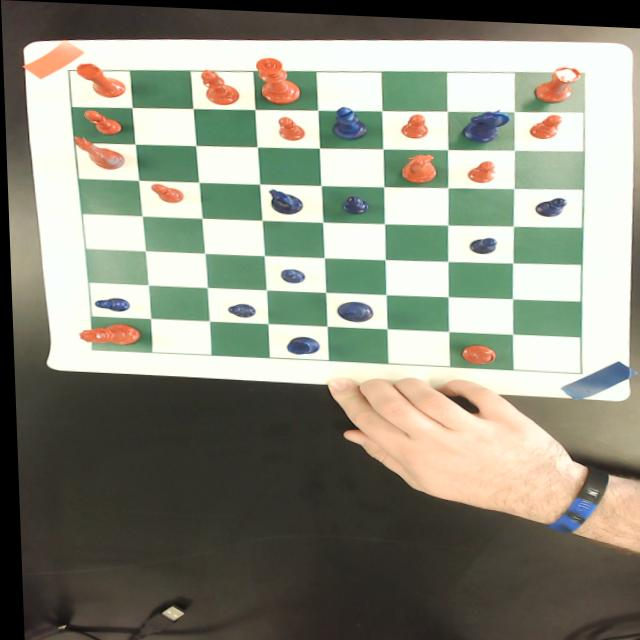B: (330, 102, 367, 138)
K: (332, 298, 370, 320)
N: (460, 103, 511, 140), (266, 187, 302, 213)
P: (531, 191, 567, 213), (464, 232, 497, 251), (340, 192, 368, 213), (91, 296, 128, 311), (224, 301, 254, 317), (277, 266, 303, 282)
R: (282, 333, 318, 352)
b: (199, 67, 240, 104), (457, 338, 496, 361)
cb: (67, 68, 584, 368)
k: (254, 54, 301, 103)
n: (71, 135, 126, 169), (398, 149, 441, 180)
p: (80, 109, 121, 135), (526, 109, 563, 135), (464, 155, 495, 180), (275, 113, 304, 139), (399, 109, 428, 135), (148, 181, 181, 203)
q: (74, 321, 138, 345)
r: (530, 60, 584, 99), (73, 62, 126, 98)
